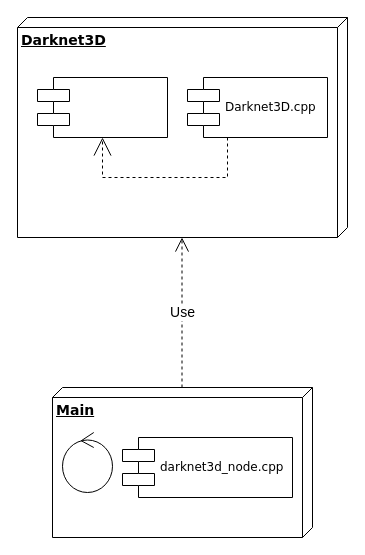
Image size: 365x555. Some labels were removed from this diagram. Each missing label, with the box of its shape:
10 Hz: (62, 432, 112, 492)
Darknet3D.h: (36, 76, 168, 138)
